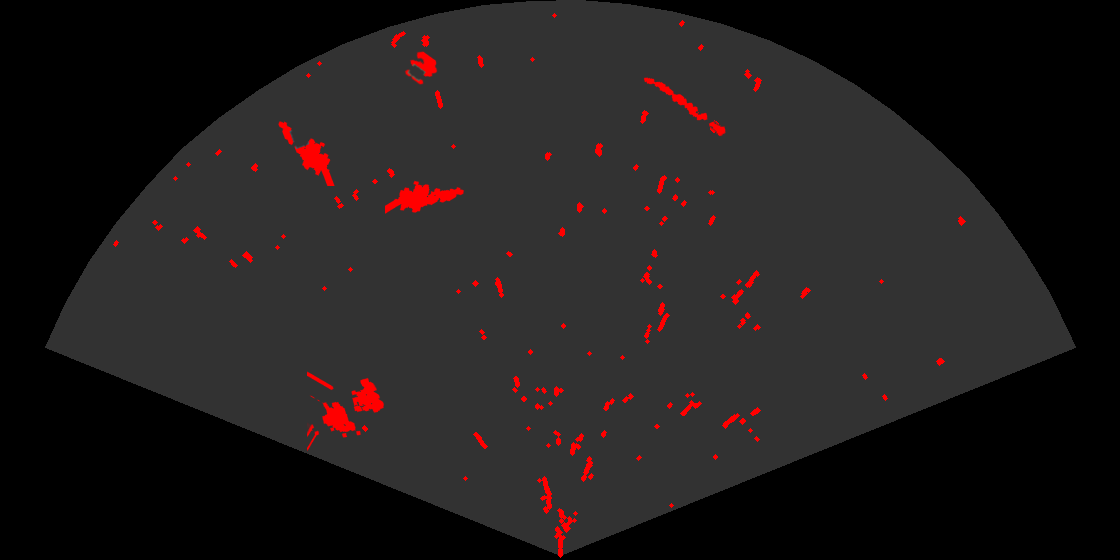ball: (403, 50, 439, 86)
cage: (307, 370, 386, 452)
chain: (642, 76, 727, 138)
frogman: (277, 120, 336, 186), (385, 179, 465, 215)
